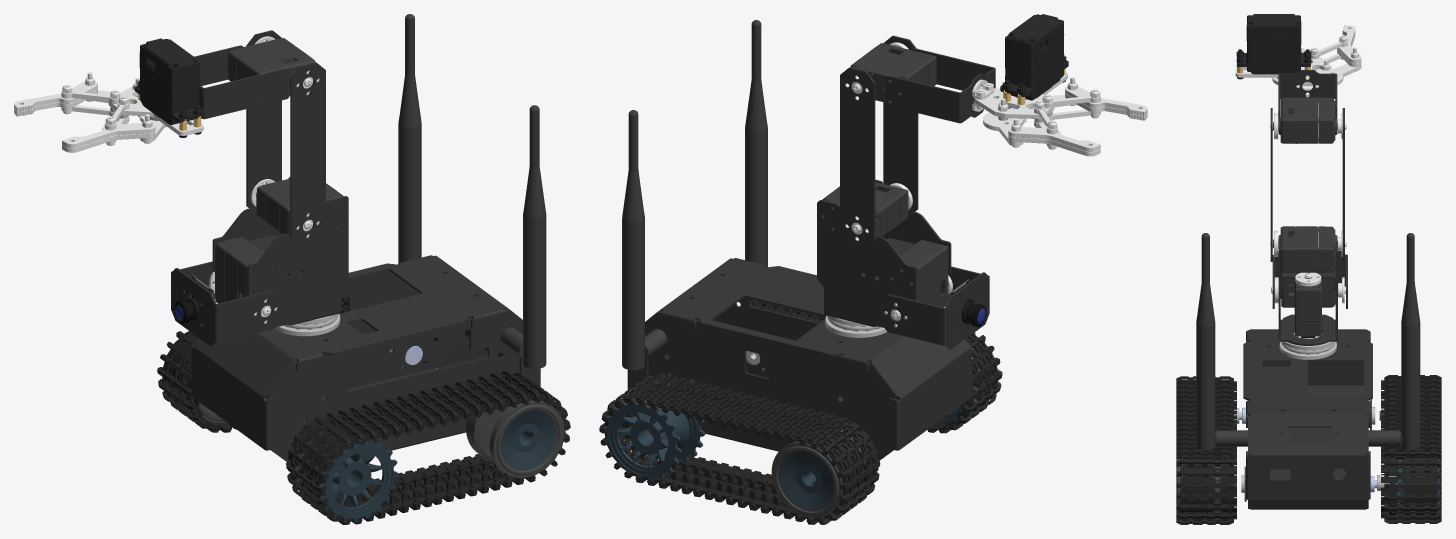
File: jetank.glb
3 renders of one model, left to right at view 1: azimuth 30°, elevation 25°; view 2: azimuth 150°, elevation 25°; view 3: azimuth 270°, elevation 25°, orthographic. The views are drawn at different scales.
Parts seen in each view (by area): view 1: Base, Arm0, EE, Arm1, Arm2; view 2: Base, Arm0, EE, Arm1, Arm2; view 3: Base, Arm0, EE, Arm2, Arm1.
Boxes of the visible parts, box(x1,y1,x2,y2) form: Base: box(157, 14, 570, 524); Arm0: box(171, 177, 348, 346); EE: box(14, 38, 204, 152); Arm1: box(246, 30, 325, 245); Arm2: box(194, 36, 319, 119); Base: box(599, 20, 1002, 524); Arm0: box(817, 179, 989, 349); EE: box(972, 14, 1147, 156); Arm1: box(840, 35, 918, 248); Arm2: box(845, 42, 995, 123); Base: box(1176, 233, 1441, 524); Arm0: box(1270, 226, 1347, 345); EE: box(1235, 14, 1361, 97); Arm2: box(1270, 70, 1346, 143); Arm1: box(1270, 108, 1344, 261).
Bounding box in the file's own units: 0.3237 × 0.3085 × 0.1947.
